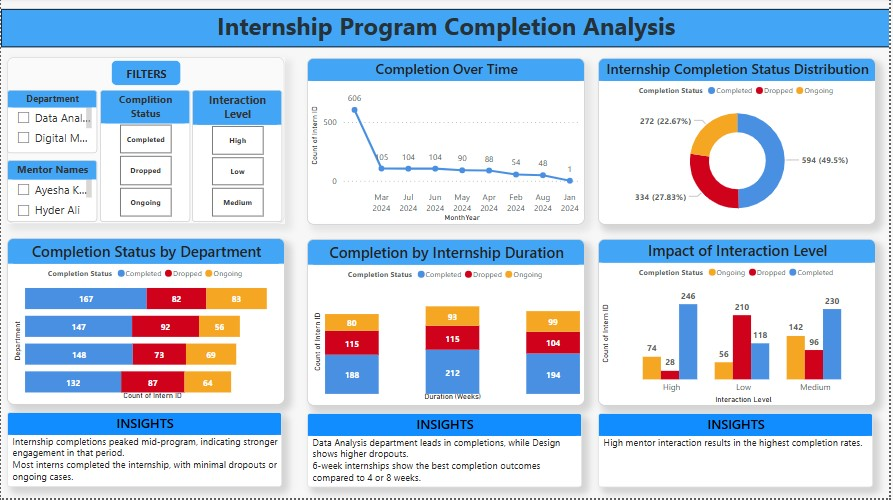

What the dashboard file says about the page in this screenshot:
{"tool":"powerbi","page":{"name":"Page 1","canvas":[1280,720],"ordinal":0},"visuals":[{"type":"donutChart","title":"Internship Completion Status Distribution","fields":{"Y":["Sheet1.Intern ID"],"Category":["Sheet1.Completion Status"]},"box":[859,86.4,400,240],"z":0},{"type":"lineChart","title":"Completion Over Time","fields":{"Y":["Sheet1.Intern ID"],"Category":["Sheet1.MonthYear"]},"box":[440.9,86.4,400.3,240],"z":1000},{"type":"shape","box":[8.6,85,400.3,240.5],"z":2000},{"type":"barChart","title":"Completion Status by Department","fields":{"Category":["Sheet1.Department"],"Series":["Sheet1.Completion Status"],"Y":["Sheet1.Intern ID"]},"box":[8.6,345.6,400.3,240.5],"z":3000},{"type":"slicer","title":"Department","fields":{"Values":["Sheet1.Department"]},"box":[8.6,132.5,129.6,90.7],"z":4000},{"type":"textbox","title":"Internship Program Completion Analysis","box":[0,15.8,1280.2,54.7],"z":5000},{"type":"clusteredColumnChart","title":"Impact of Interaction Level","fields":{"Category":["Sheet1.Interaction Level"],"Y":["Sheet1.Intern ID"],"Series":["Sheet1.Completion Status"]},"box":[859.7,347,400.3,240.5],"z":6000},{"type":"columnChart","title":"Completion by Internship Duration","fields":{"Category":["Sheet1.Duration (Weeks)"],"Y":["Sheet1.Intern ID"],"Series":["Sheet1.Completion Status"]},"box":[440.6,347,400.3,240.5],"z":7000},{"type":"slicer","title":"Complition Status","fields":{"Values":["Sheet1.Completion Status"]},"box":[142.6,132.5,129.6,190.1],"z":8000},{"type":"slicer","title":"Mentor Names","fields":{"Values":["Sheet1.Mentor Name"]},"box":[8.6,233.3,129.6,89.3],"z":9000},{"type":"slicer","title":"Interaction Level","fields":{"Values":["Sheet1.Interaction Level"]},"box":[275,132.5,129.6,190.1],"z":10000},{"type":"textbox","title":"INSIGHTS","box":[8.6,596.2,396,108],"z":11000},{"type":"textbox","box":[158.4,89.3,100.8,37.4],"z":12000},{"type":"textbox","title":"INSIGHTS","box":[440.6,597.6,396,106.6],"z":13000},{"type":"textbox","title":"INSIGHTS","box":[859.7,597.6,396,106.6],"z":13001}]}

Visuals, with their boxes in screenshot pixels (x1, y1, x2, y2), scaled from the page's 1280x720 canvas onto the 893x500 screenshot:
"Internship Completion Status Distribution" donutChart: detection(599, 60, 878, 227)
"Completion Over Time" lineChart: detection(308, 60, 587, 227)
shape: detection(6, 59, 285, 226)
"Completion Status by Department" barChart: detection(6, 240, 285, 407)
"Department" slicer: detection(6, 92, 96, 155)
"Internship Program Completion Analysis" textbox: detection(0, 11, 892, 49)
"Impact of Interaction Level" clusteredColumnChart: detection(600, 241, 879, 408)
"Completion by Internship Duration" columnChart: detection(307, 241, 587, 408)
"Complition Status" slicer: detection(99, 92, 190, 224)
"Mentor Names" slicer: detection(6, 162, 96, 224)
"Interaction Level" slicer: detection(192, 92, 282, 224)
"INSIGHTS" textbox: detection(6, 414, 282, 489)
textbox: detection(111, 62, 181, 88)
"INSIGHTS" textbox: detection(307, 415, 584, 489)
"INSIGHTS" textbox: detection(600, 415, 876, 489)
